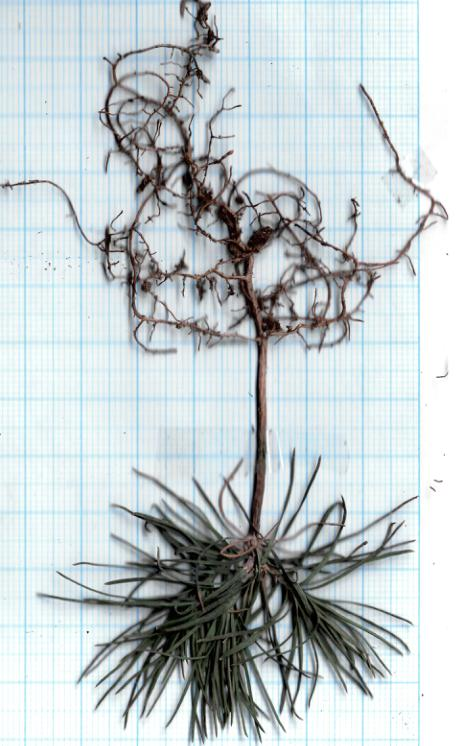flower: (28, 449, 427, 746)
root: (0, 0, 451, 357)
stem: (236, 348, 283, 530)
